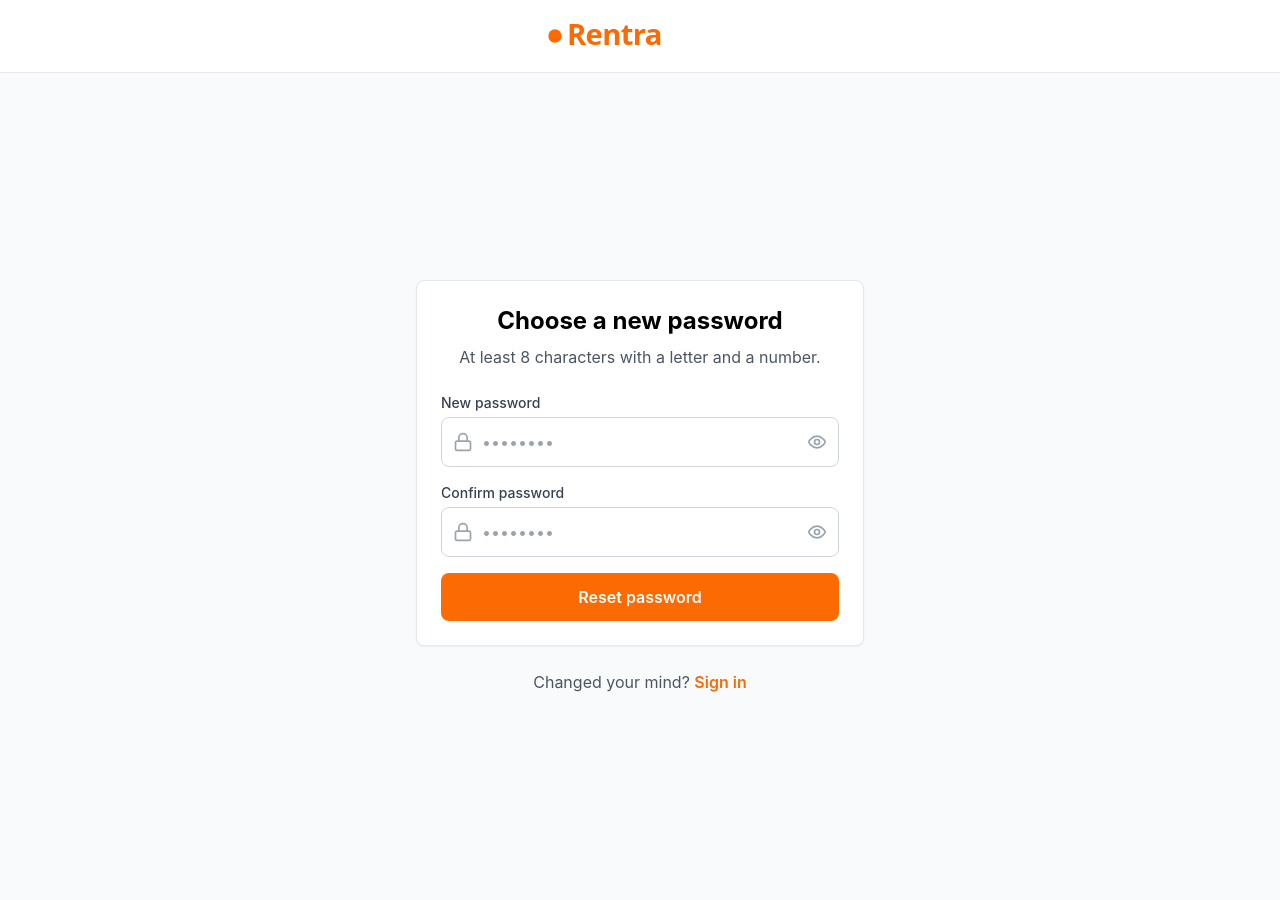
ResetPasswordPage › enforces the server password rules and a matching confirmation
Type "short" into the password field labelled "New password".
click(640, 442); type("short")  # box [441,416,839,466]
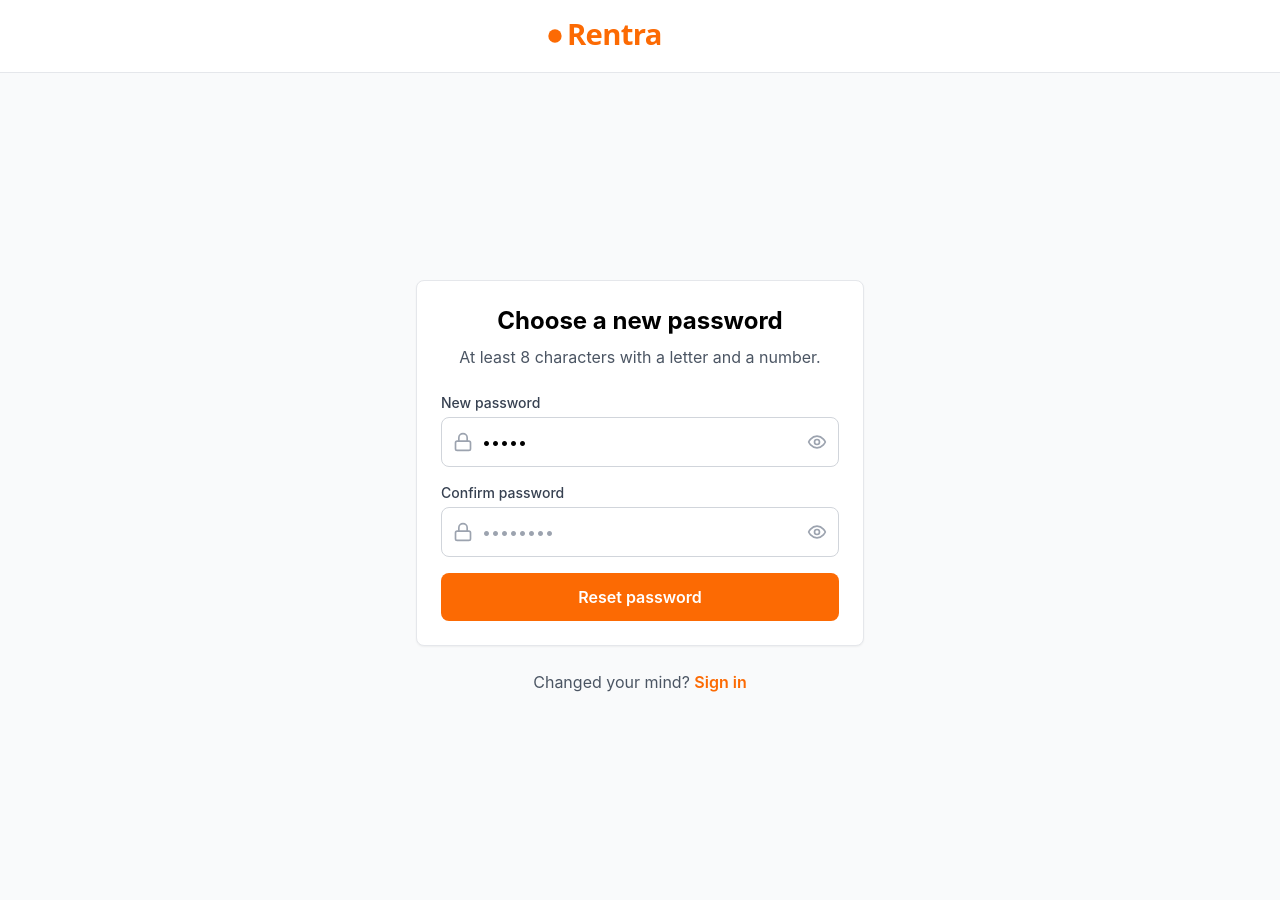
Click the button "Reset password".
click(640, 596)  # box [441,572,839,620]
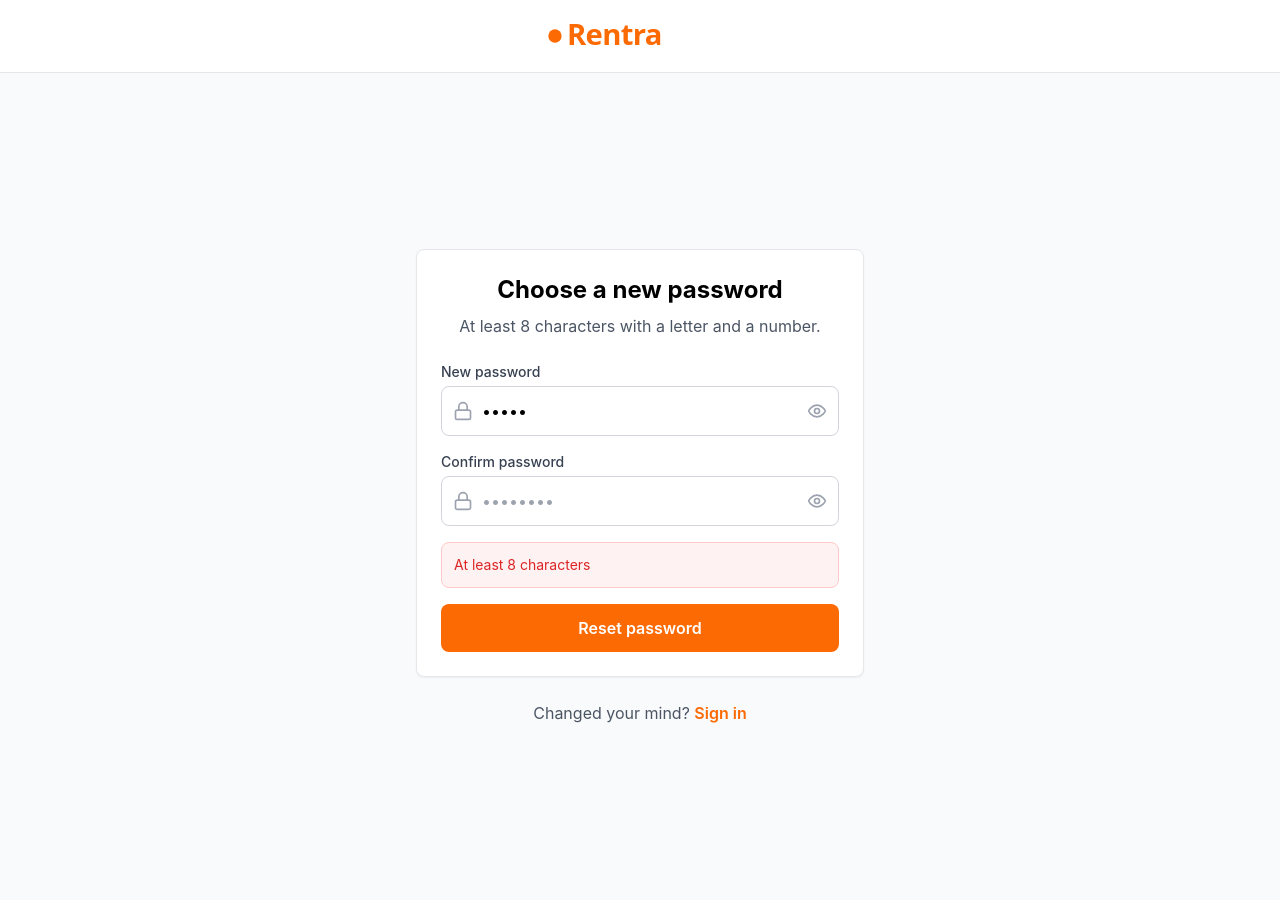
Expected: the text "At least 8 characters" is shown, [454,556,590,572]
Type "longenough1" into the password field labelled "New password".
click(640, 410); type("longenough1")  # box [441,386,839,436]
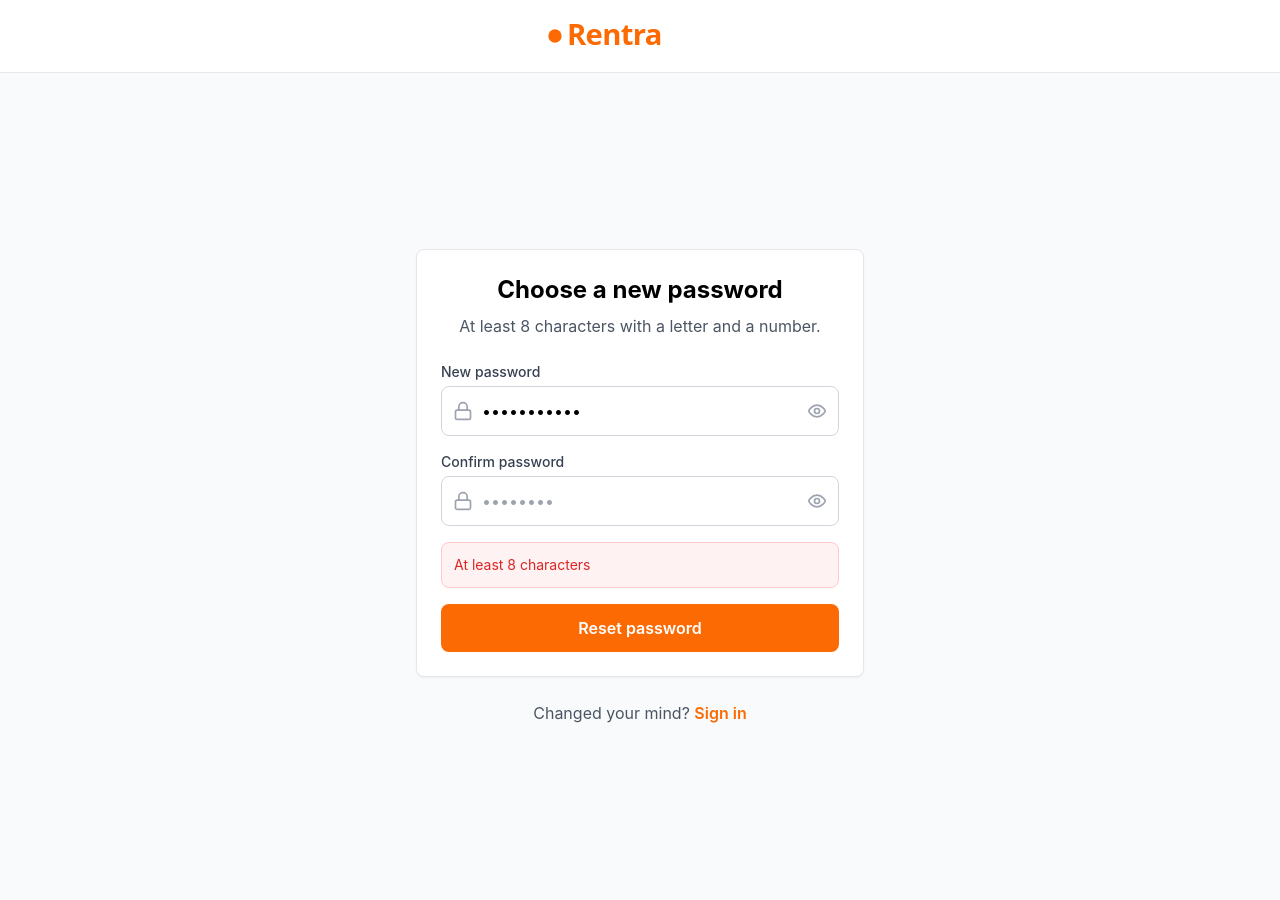
Type "different1" into the password field labelled "Confirm password".
click(640, 500); type("different1")  # box [441,476,839,526]
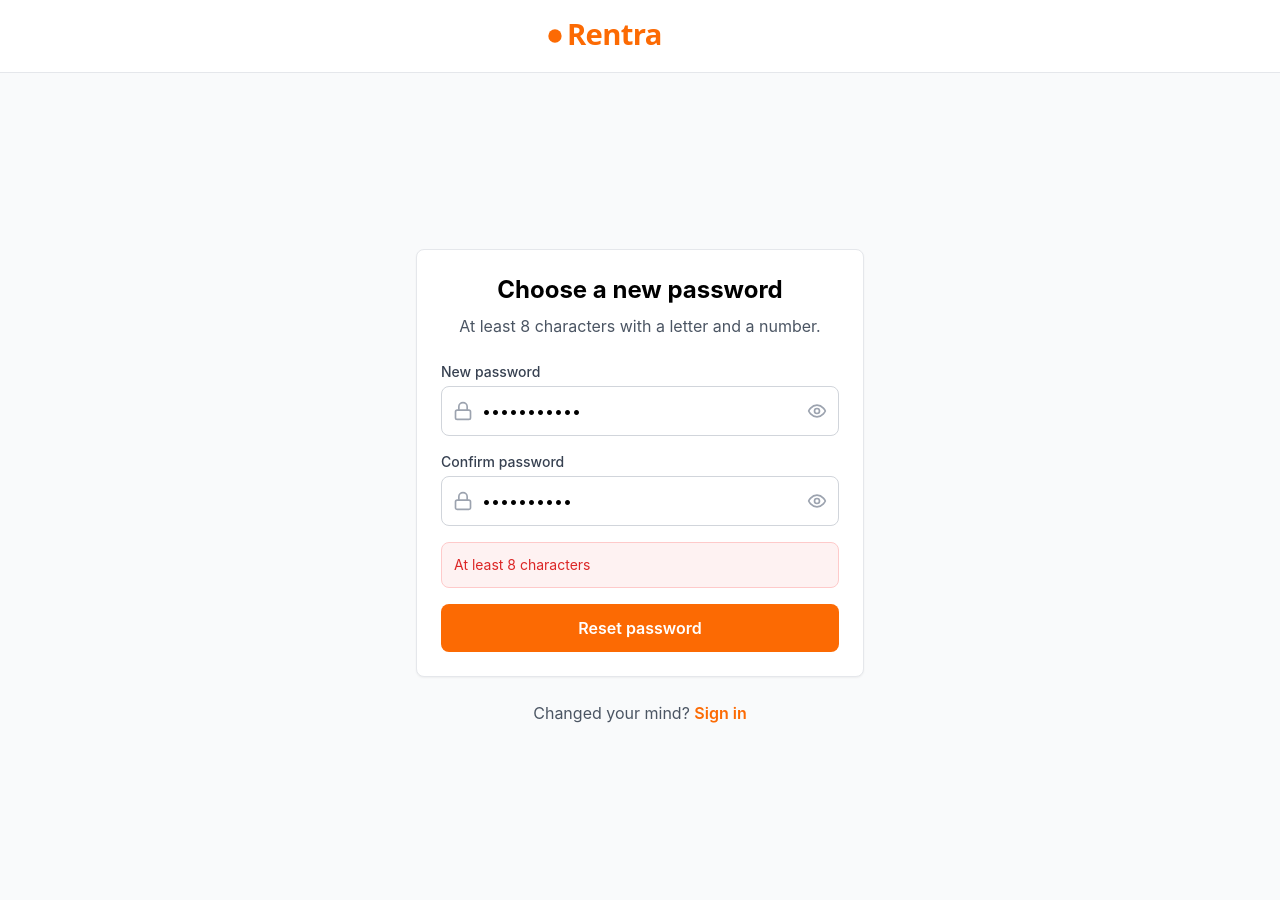
Click the button "Reset password".
click(640, 628)  # box [441,604,839,652]
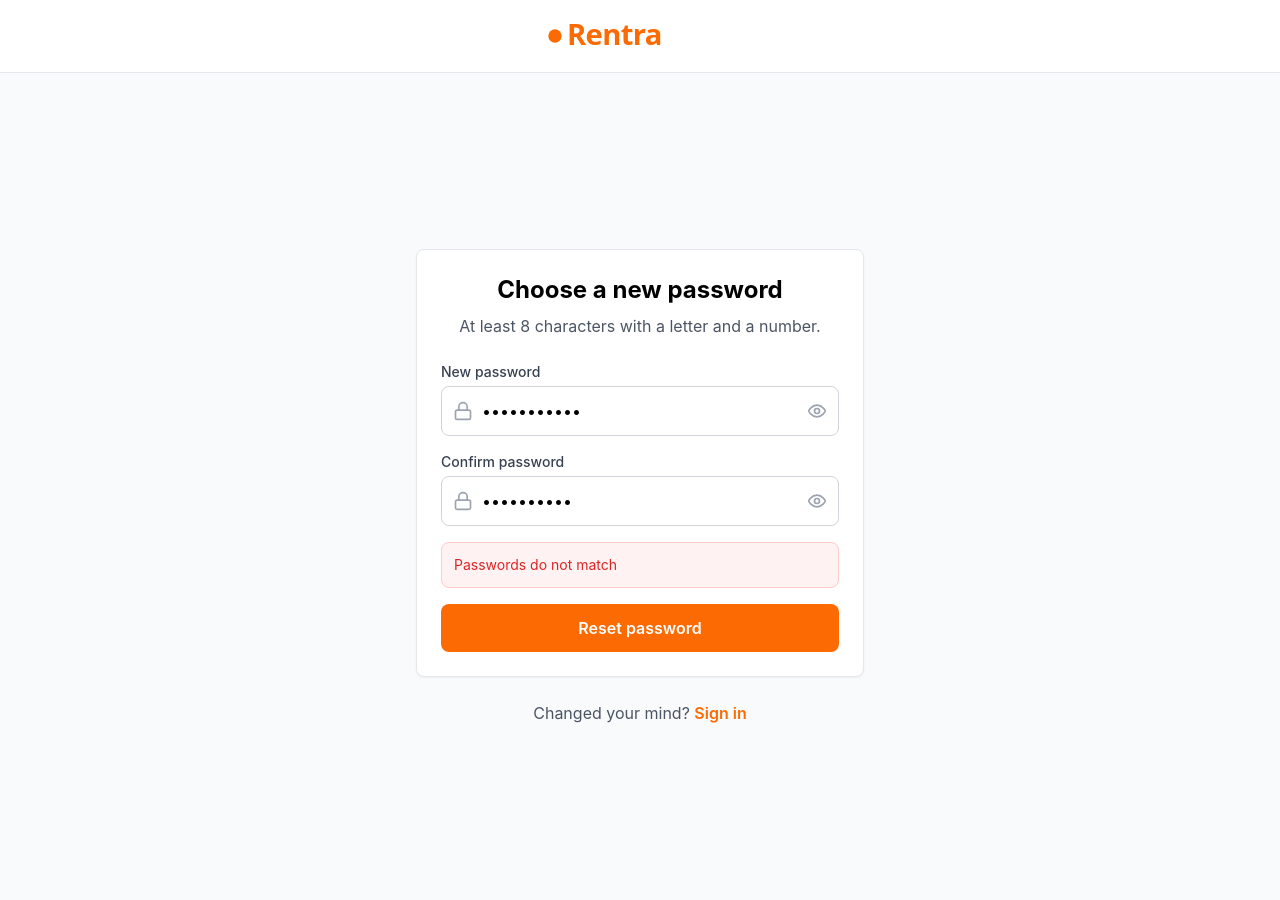
Expected: the text "Passwords do not match" is shown, [454,556,617,572]
